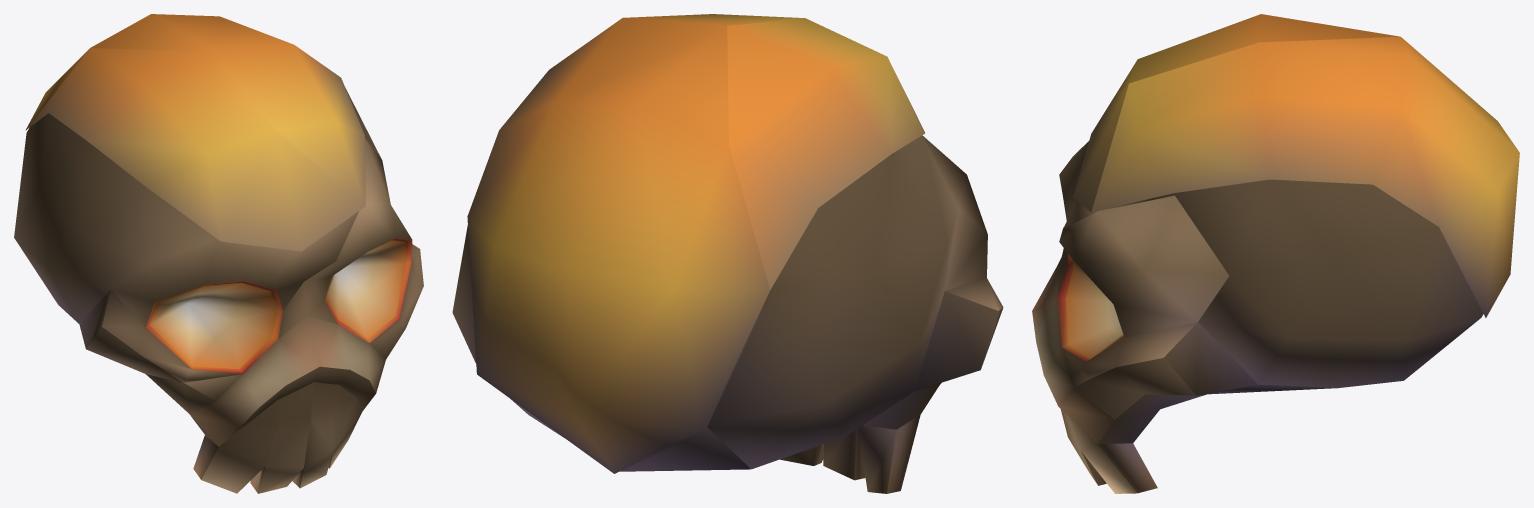
File: SkullPieces.gltf
The picture shows the model from 3 angles, left to right: view 1: azimuth 30°, elevation 25°; view 2: azimuth 150°, elevation 25°; view 3: azimuth 270°, elevation 25°; orthographic projection. The views are drawn at different scales.
Parts seen in each view (by area): view 1: SkullPiece3, SkullPiece1, SkullPiece2; view 2: SkullPiece2, SkullPiece3, SkullPiece1; view 3: SkullPiece2, SkullPiece1, SkullPiece3.
Boxes of the visible parts, left/top/right/bottom form: SkullPiece3: left=14, top=48, right=365, bottom=382; SkullPiece1: left=146, top=138, right=423, bottom=493; SkullPiece2: left=26, top=14, right=381, bottom=205; SkullPiece2: left=452, top=14, right=804, bottom=473; SkullPiece3: left=707, top=18, right=1003, bottom=469; SkullPiece1: left=780, top=383, right=941, bottom=493; SkullPiece2: left=1091, top=36, right=1519, bottom=387; SkullPiece1: left=1032, top=195, right=1337, bottom=493; SkullPiece3: left=1059, top=14, right=1399, bottom=228.
Size of the model in its own units: 1.52 by 1.73 by 1.79.
